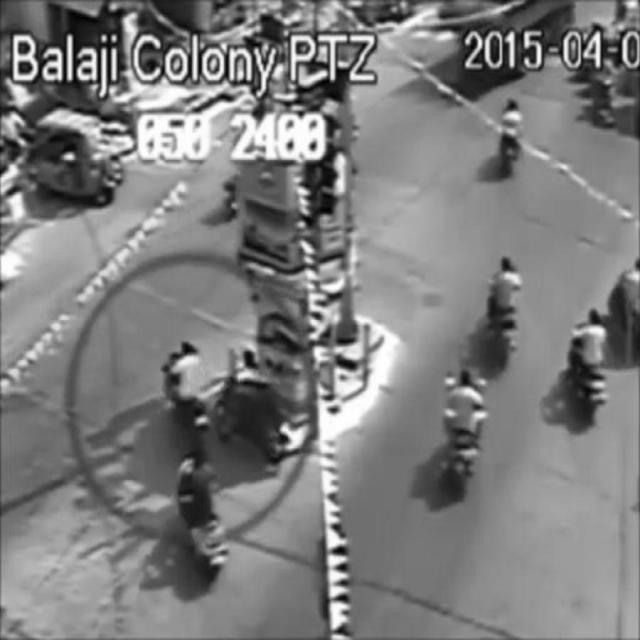vehicle: (35, 106, 113, 208), (221, 351, 288, 461), (175, 448, 227, 579), (159, 341, 215, 441), (442, 369, 483, 489), (571, 305, 612, 419), (485, 253, 522, 369), (500, 96, 522, 174)
